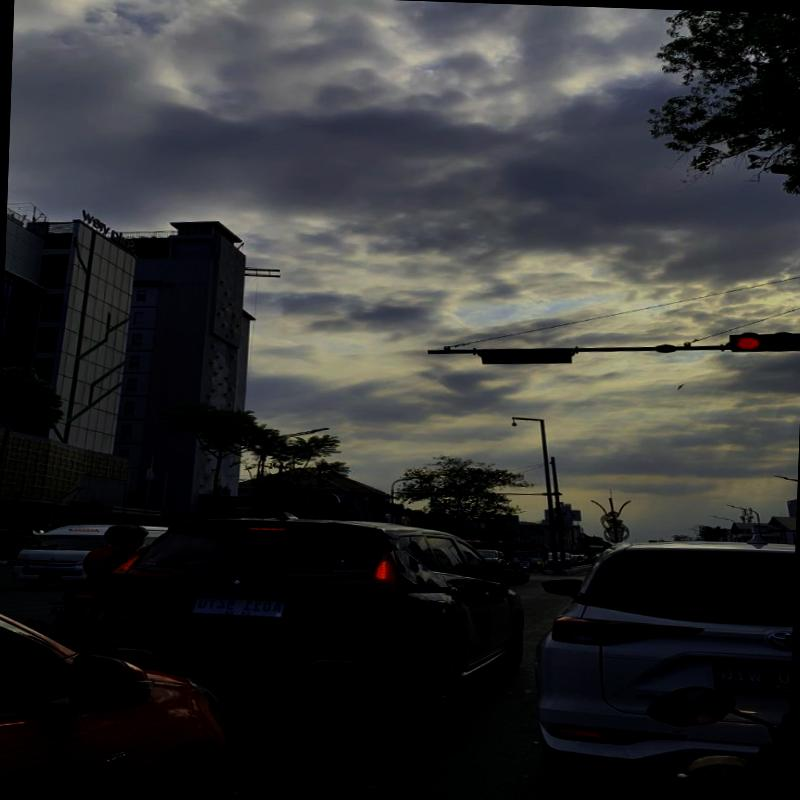license plate on a car: (712, 663, 790, 697), (191, 598, 287, 619), (38, 574, 60, 581)
